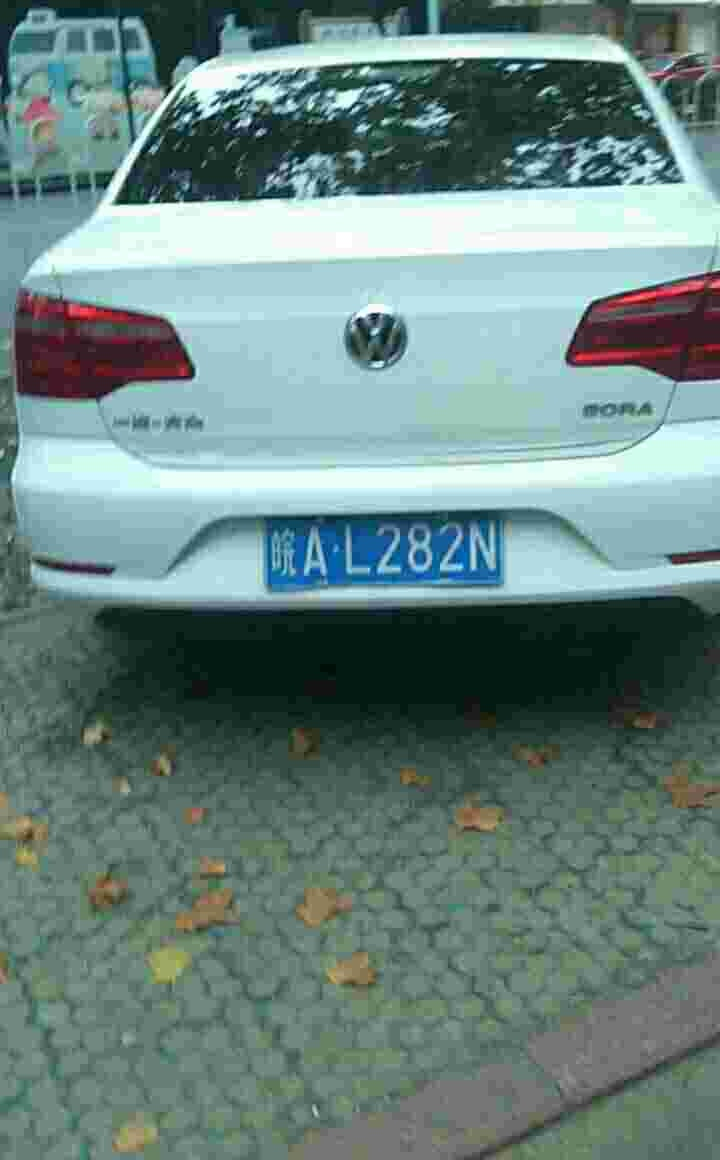license_plate: (254, 515, 516, 588)
